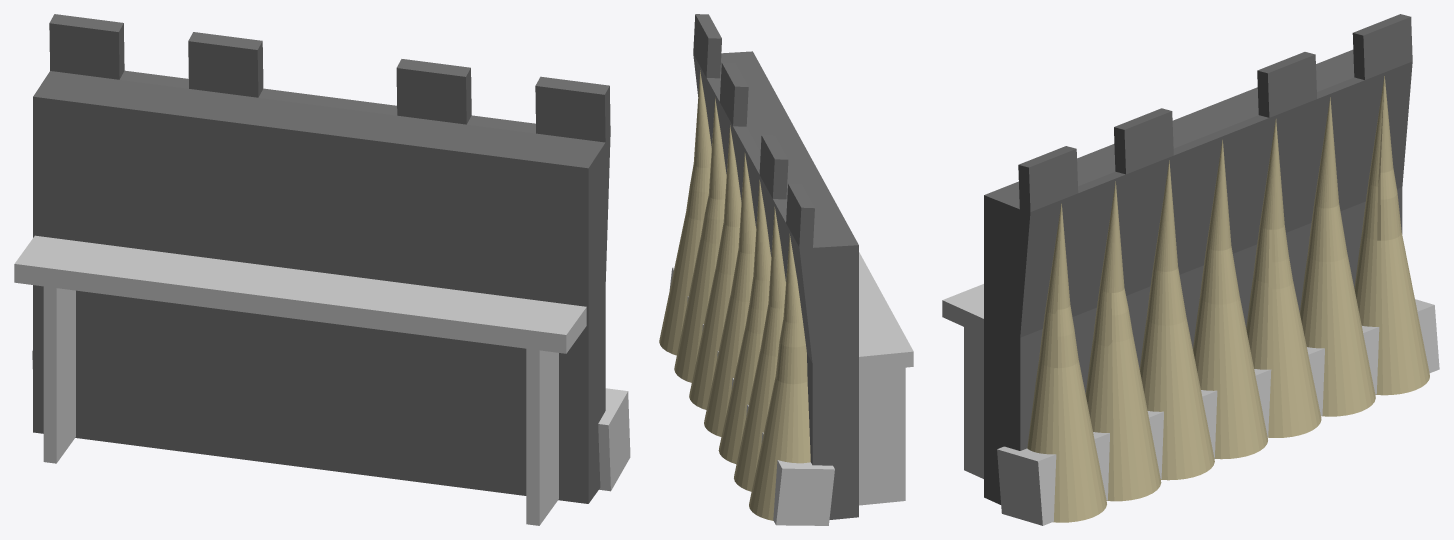
File: Concept Model Walls 2.fbx
3 views of the same model, side by side, from view 1: azimuth 30°, elevation 25°; view 2: azimuth 150°, elevation 25°; view 3: azimuth 270°, elevation 25° (orthographic). The views are drawn at different scales.
Parts seen in each view (by area): view 1: Cube; view 2: Cube; view 3: Cube.
Part boxes in pixels (box(x1,y1,x2,y2)): Cube: box(14, 14, 630, 525); Cube: box(659, 14, 913, 525); Cube: box(942, 14, 1439, 525).
Size of the model in its own units: 1386 by 1125 by 1439.
